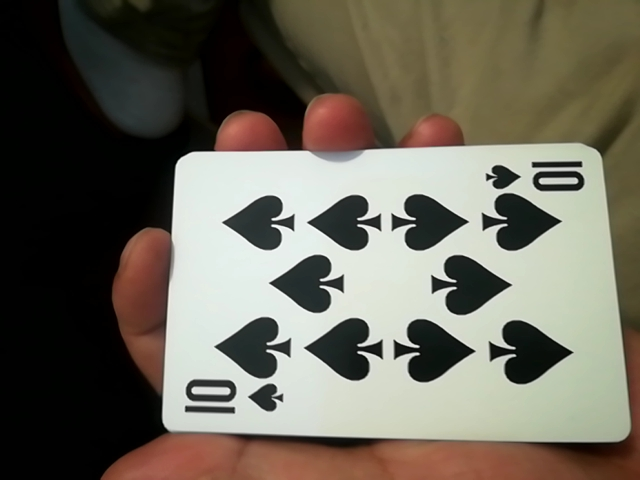ht 10: (149, 138, 615, 455)
